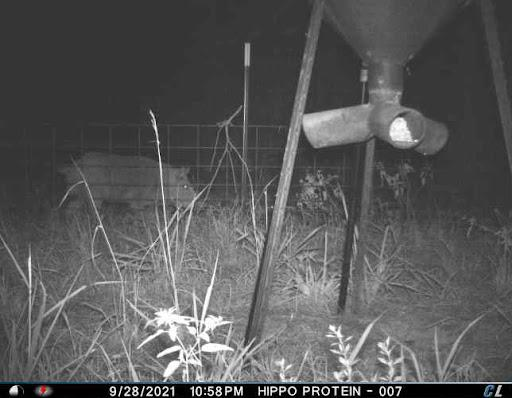Hog: (62, 145, 206, 226)
